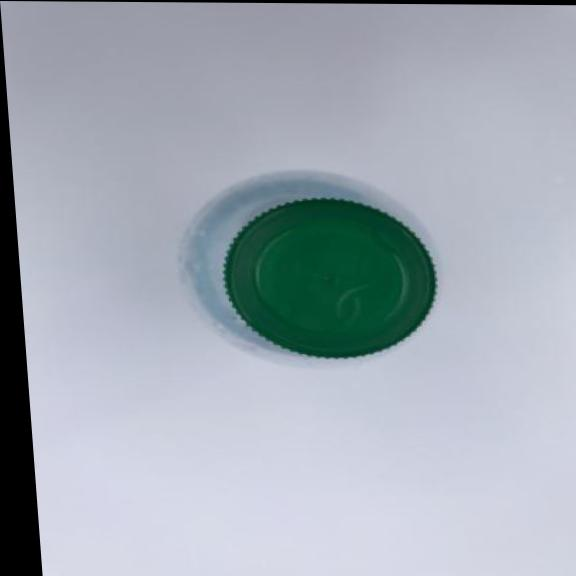Plastik: (169, 166, 452, 366)
